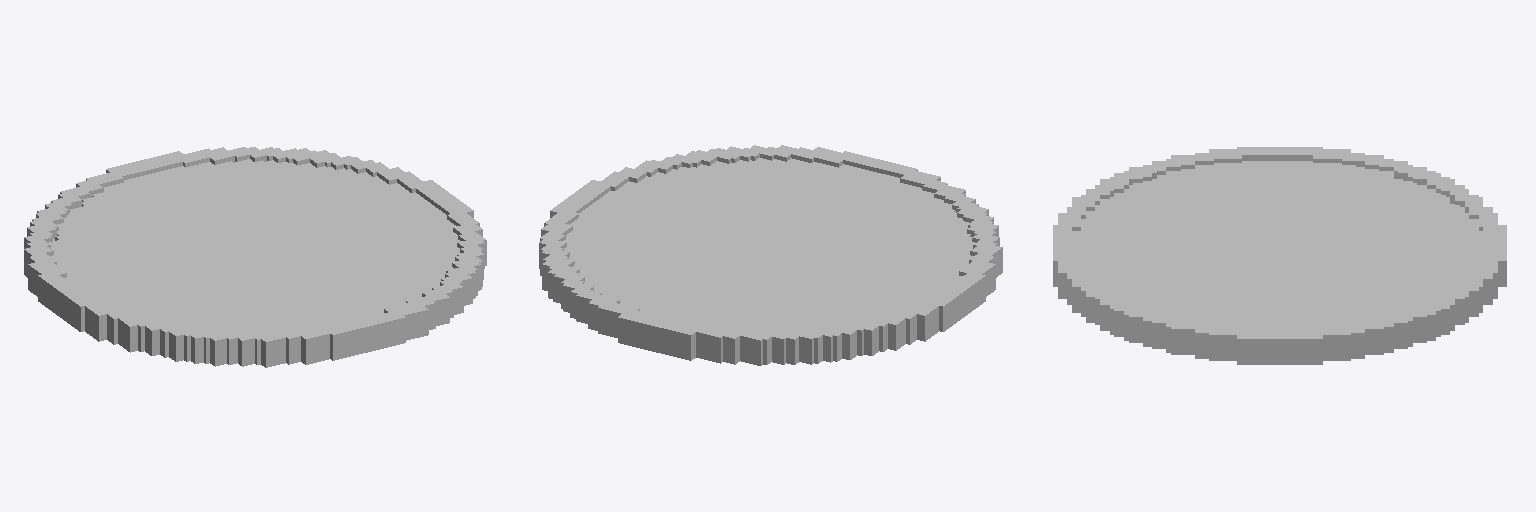
The model's file is PlatoBasePizza.obj.
The picture shows the model from 3 angles: view 1: azimuth 30°, elevation 25°; view 2: azimuth 150°, elevation 25°; view 3: azimuth 270°, elevation 25°; orthographic projection.
Parts seen in each view (by area): view 1: object 1; view 2: object 1; view 3: object 1.
Part boxes in pixels (left/top/right/bottom): object 1: left=24, top=147, right=486, bottom=367; object 1: left=539, top=145, right=1002, bottom=365; object 1: left=1053, top=147, right=1506, bottom=364.
Bounding box in the file's own units: 9.6 × 0.6 × 9.6.